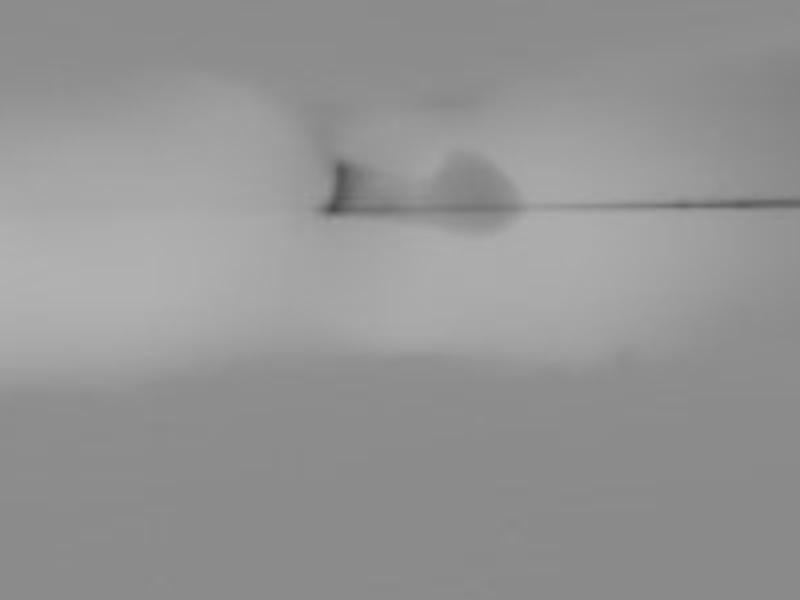defect: (423, 155, 526, 238)
